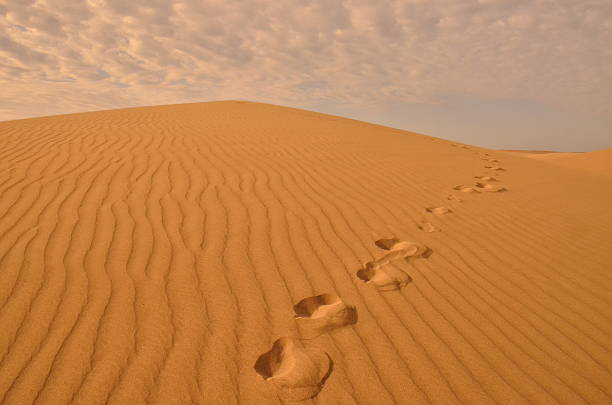human_footprint: (254, 337, 332, 401), (357, 238, 431, 290), (293, 293, 356, 331), (416, 220, 440, 232), (475, 182, 506, 191), (425, 206, 451, 215), (453, 185, 479, 192), (447, 194, 462, 202)
